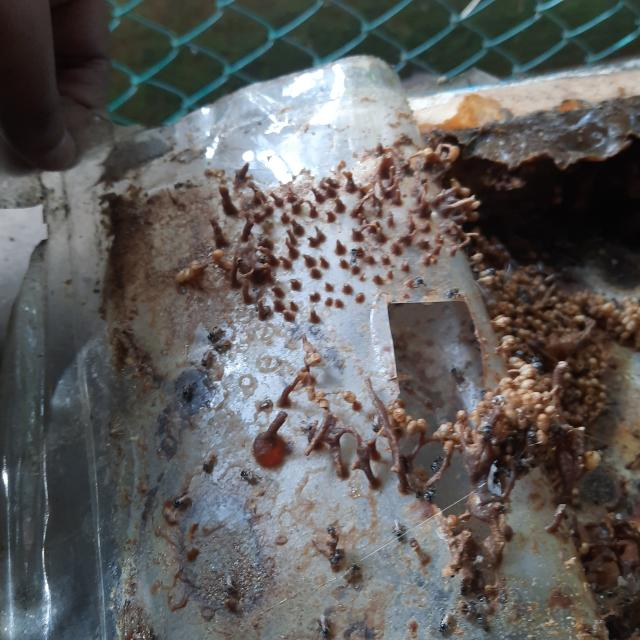honeybee: (342, 561, 360, 584), (170, 492, 192, 509), (319, 614, 334, 638), (438, 613, 454, 634), (479, 596, 492, 614), (465, 598, 475, 621), (240, 470, 256, 484), (331, 549, 342, 569), (392, 520, 404, 538), (445, 287, 460, 300), (412, 276, 428, 288), (348, 248, 358, 267), (459, 575, 470, 592), (427, 486, 438, 503), (478, 618, 492, 631), (431, 455, 441, 471), (483, 425, 493, 440), (326, 526, 342, 534)
